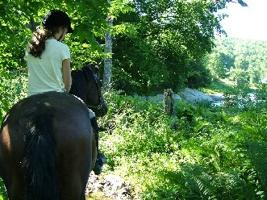person: (25, 10, 107, 176)
